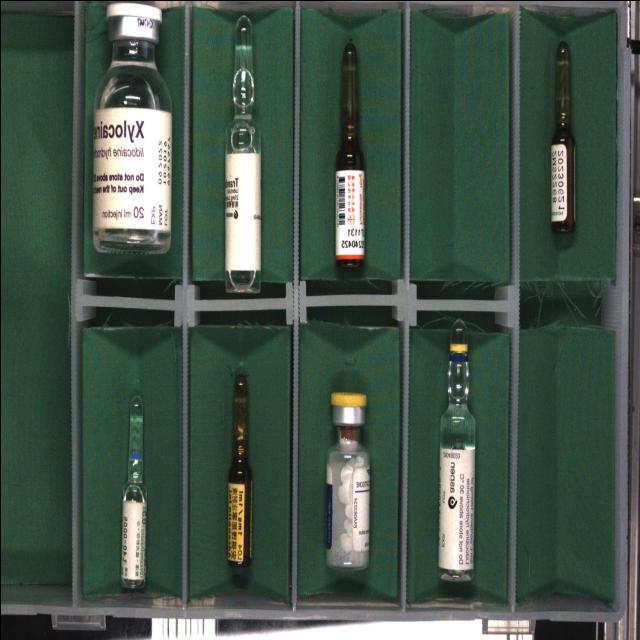Vials: (92, 2, 171, 252), (326, 391, 369, 567)
